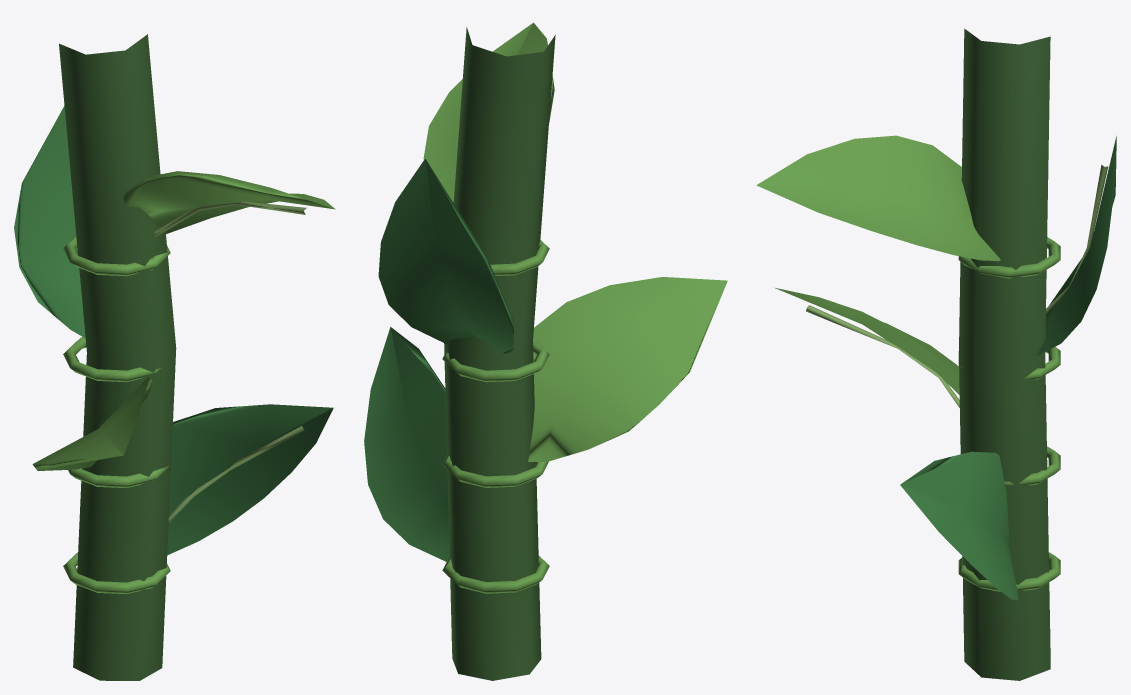
File: maiz_1_lod.glb
3 renders of one model, left to right at view 1: azimuth 30°, elevation 25°; view 2: azimuth 150°, elevation 25°; view 3: azimuth 270°, elevation 25°, orthographic.
Visible parts, largest first — view 1: maiz_1_caña_0; view 2: maiz_1_caña_0; view 3: maiz_1_caña_0.
Boxes of the visible parts, x1,y1,x2,y2 form: maiz_1_caña_0: (14,34,335,680); maiz_1_caña_0: (364,22,727,680); maiz_1_caña_0: (756,28,1116,680).
Size of the model in its own units: 0.1832 by 0.3829 by 0.1988.
